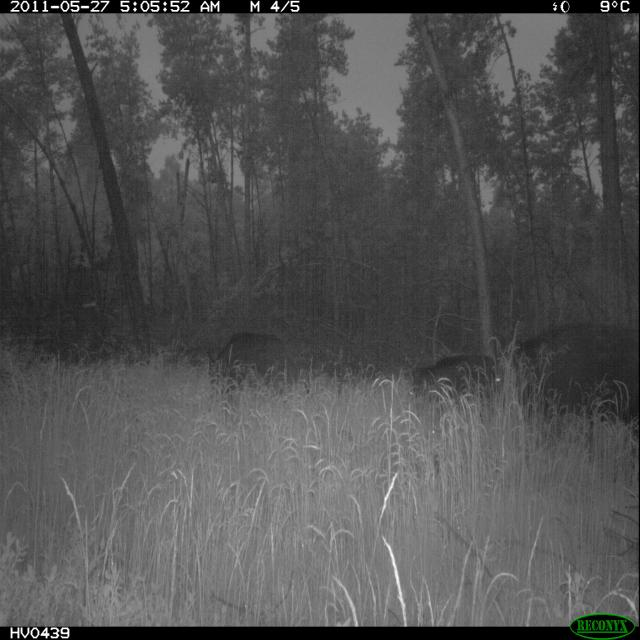boar: (492, 312, 640, 442), (393, 335, 518, 469), (196, 327, 326, 414)
